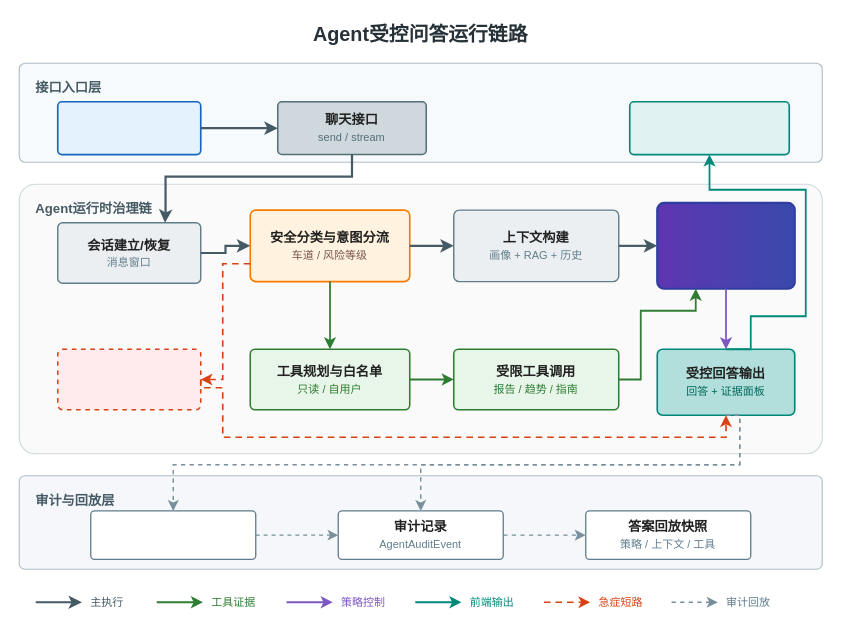
This 842x631 diagram has some shape labels left out. The centre of each missing label's shape, as x and y in pixels:
Dr.AI交互界面 普通请求 / 流式请求: pixel 128 127
会话消息写入 ChatMessage: pixel 173 534
前端增量展示 状态 / 工具 / 最终回答: pixel 709 127
急症短路 安全引导 / 接管: pixel 128 379
证据门控与回答策略 ★ 充分 / 有限 / 不足: pixel 725 245
